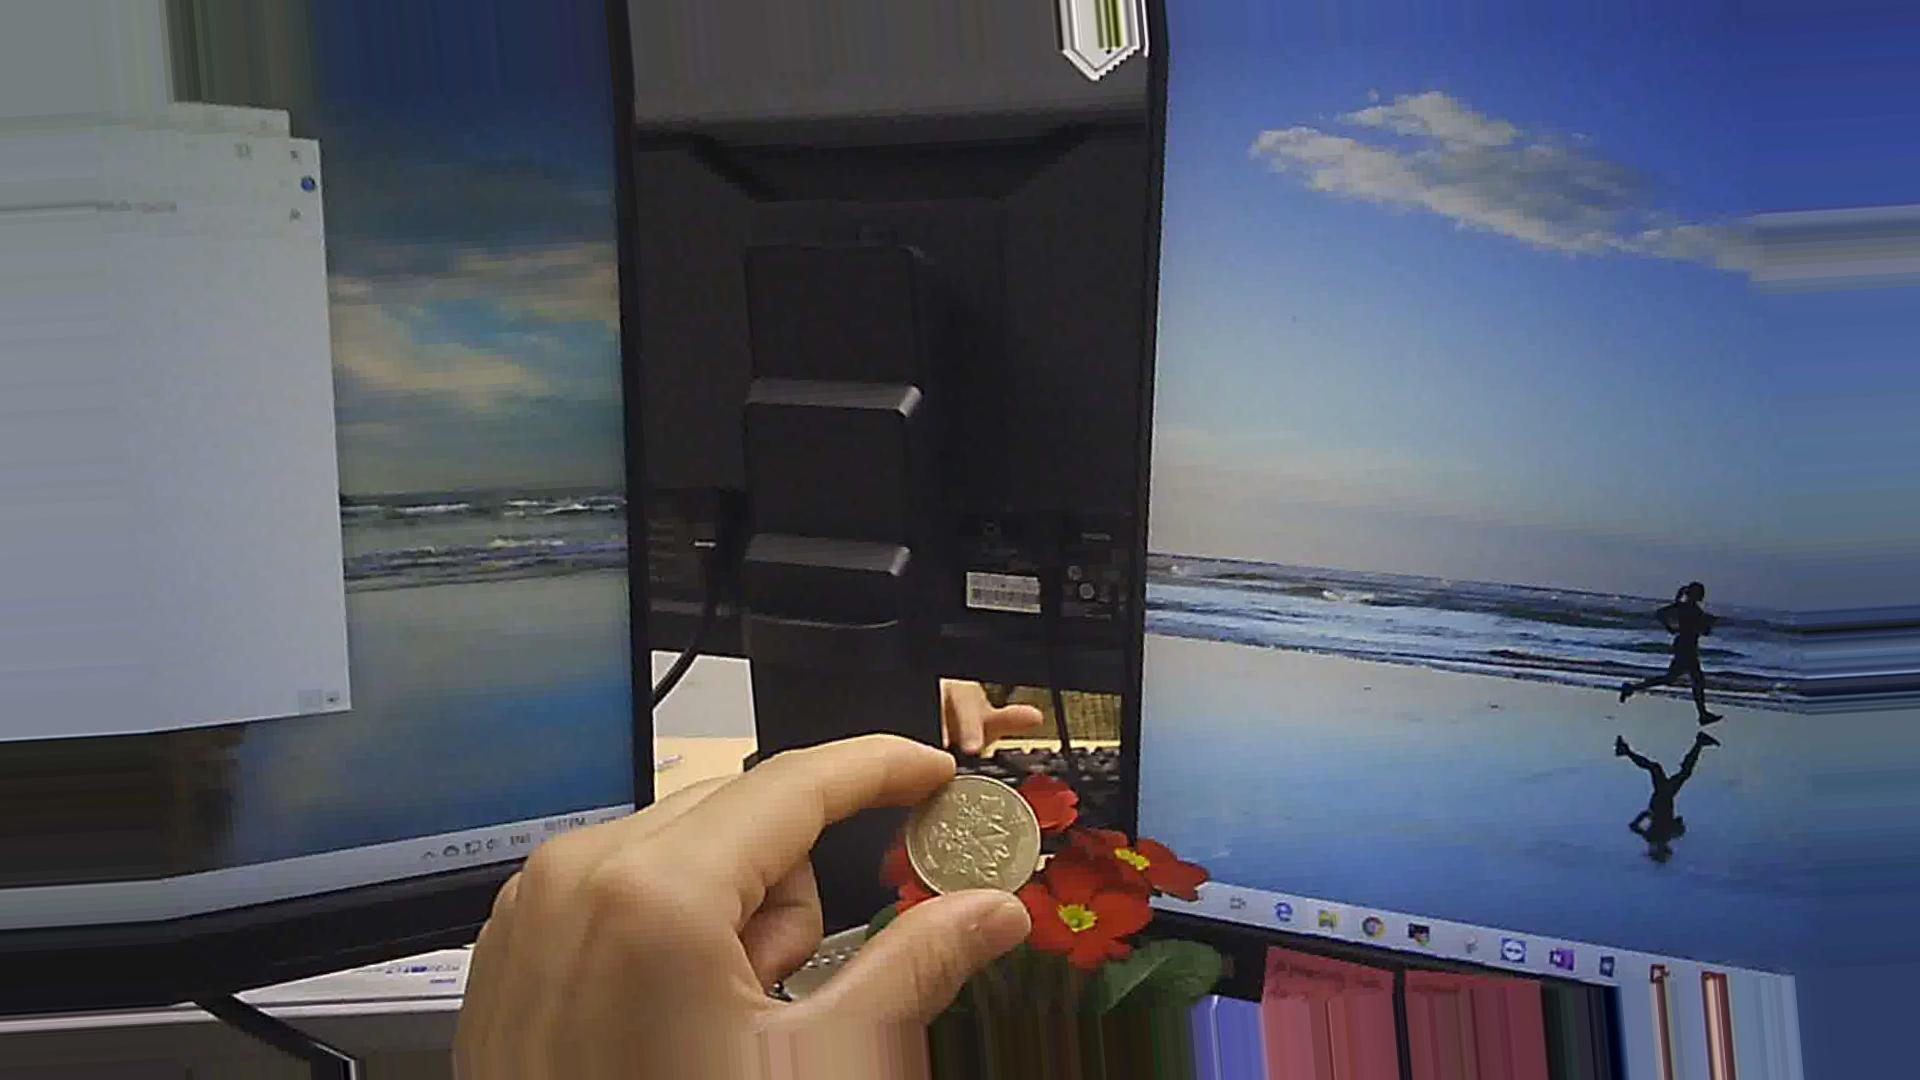500 Yen: (902, 771, 1060, 913)
